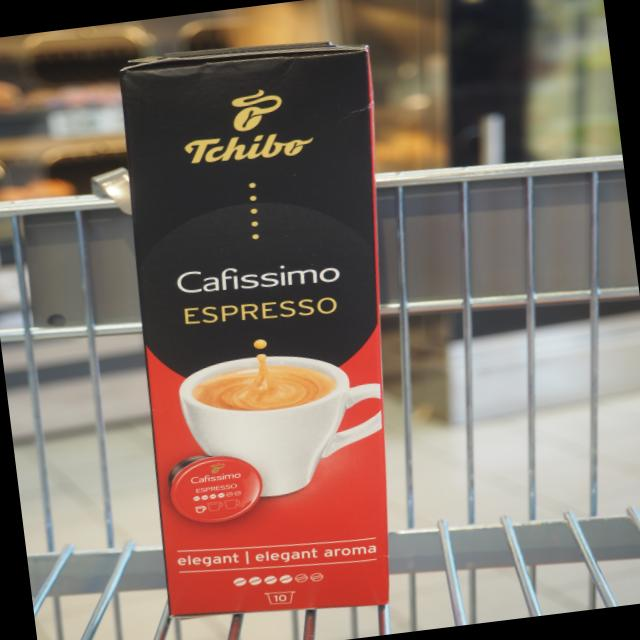Simo Es Elegant: (115, 31, 394, 621)
